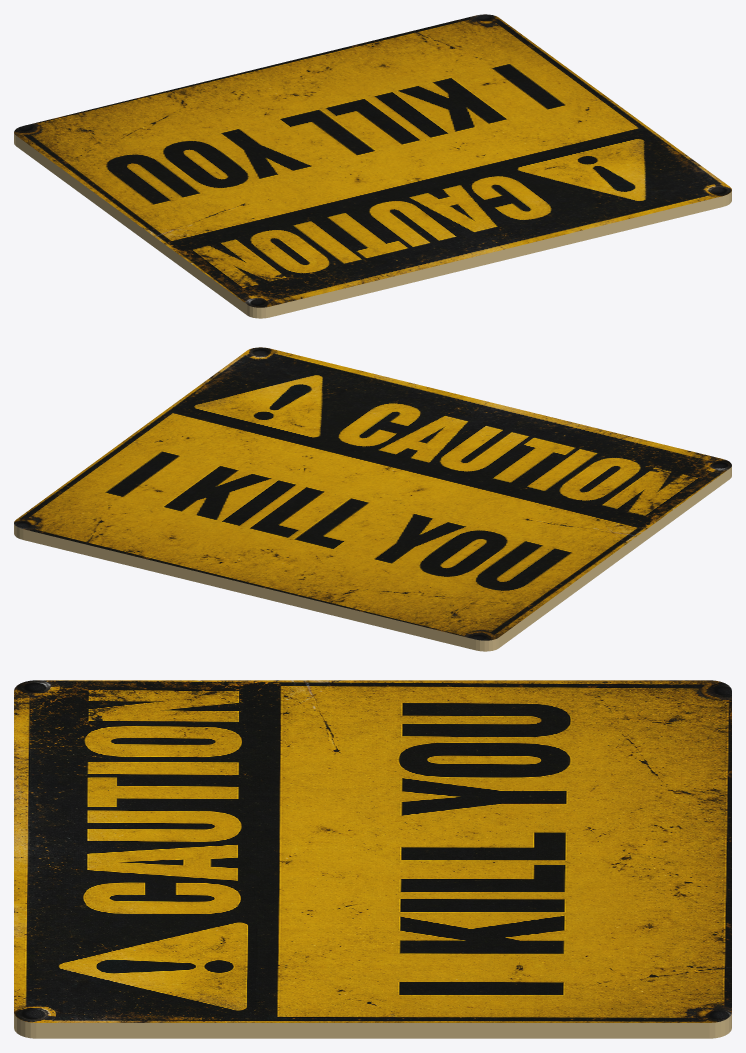
Rendered from warning.glb.
3 renders of one model, top to bottom at view 1: azimuth 30°, elevation 25°; view 2: azimuth 150°, elevation 25°; view 3: azimuth 270°, elevation 25°, orthographic. The views are drawn at different scales.
Parts seen in each view (by area): view 1: Cube; view 2: Cube; view 3: Cube.
Part boxes in pixels (left/top/right/bottom): Cube: left=14, top=14, right=731, bottom=318; Cube: left=14, top=347, right=731, bottom=651; Cube: left=14, top=680, right=731, bottom=1038.
Size of the model in its own units: 2.26 by 0.0484 by 2.
Materials: 2 (1 with a texture image).
